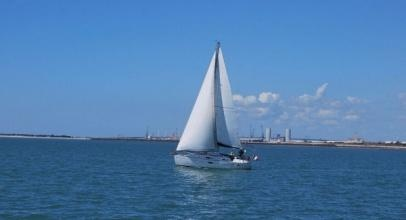fanchuan: (172, 41, 254, 171)
